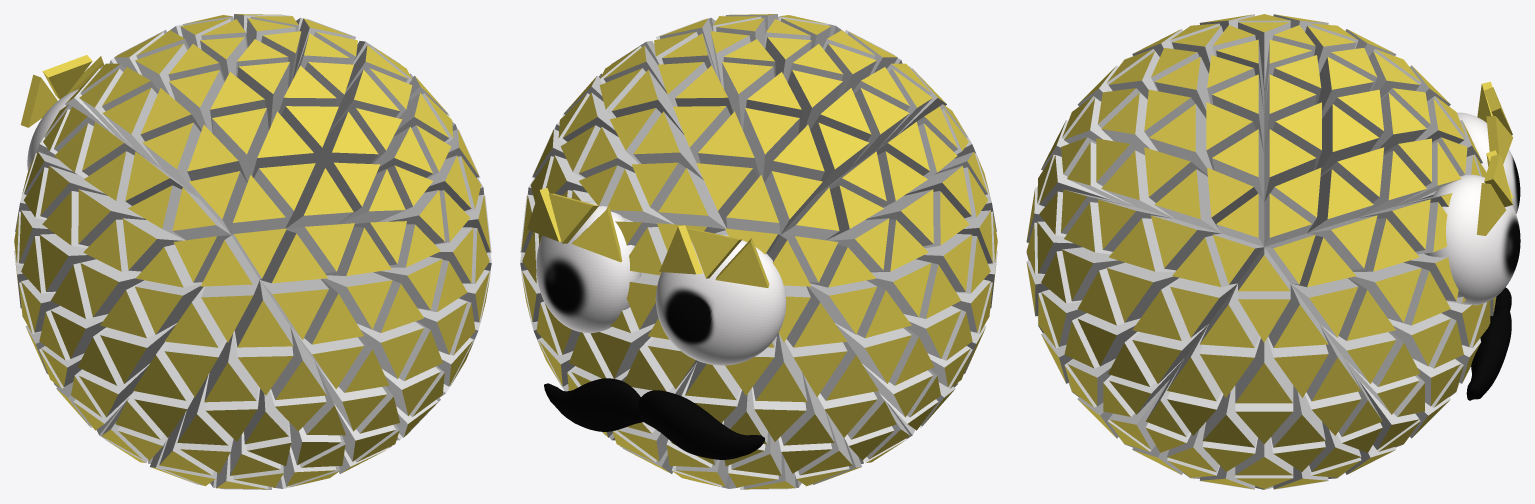
The model's file is yellowEnemy.fbx.
The picture shows the model from 3 angles, left to right: view 1: azimuth 30°, elevation 25°; view 2: azimuth 150°, elevation 25°; view 3: azimuth 270°, elevation 25°; orthographic projection.
Parts seen in each view (by area): view 1: Icosphere.001; view 2: Icosphere.001; view 3: Icosphere.001.
Boxes of the visible parts, x1=… form: Icosphere.001: x1=14, y1=14, x2=491, y2=489; Icosphere.001: x1=520, y1=14, x2=997, y2=489; Icosphere.001: x1=1026, y1=14, x2=1520, y2=489.
Bounding box in the file's own units: 191 × 191 × 198.
